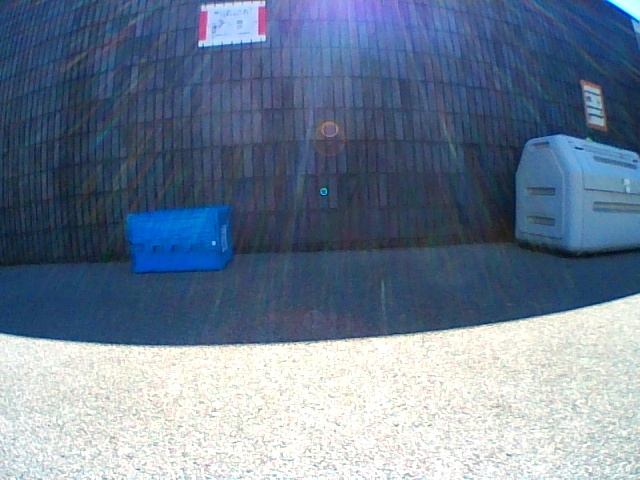blue_box: (125, 206, 232, 273)
tag: (222, 227, 226, 249)
